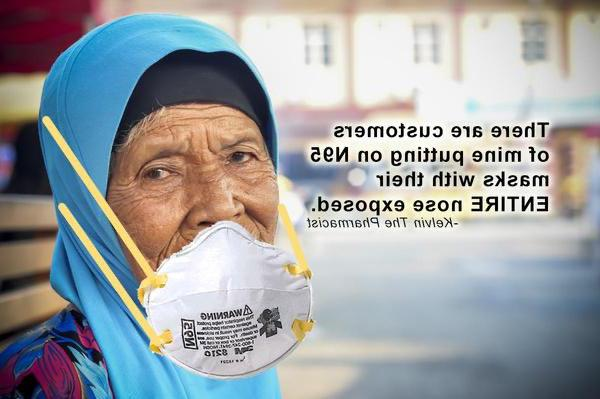mask_weared_incorrect: (114, 128, 281, 307)
